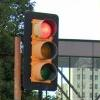traffic lights: (25, 10, 58, 92)
